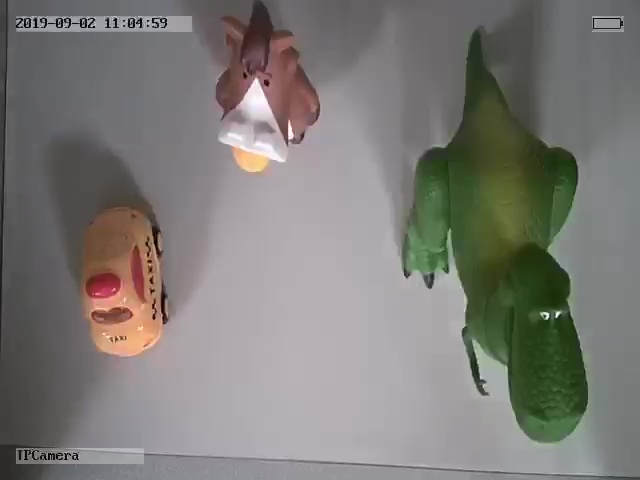car: (80, 205, 173, 357)
horse: (213, 7, 321, 175)
rex: (401, 51, 588, 442)
